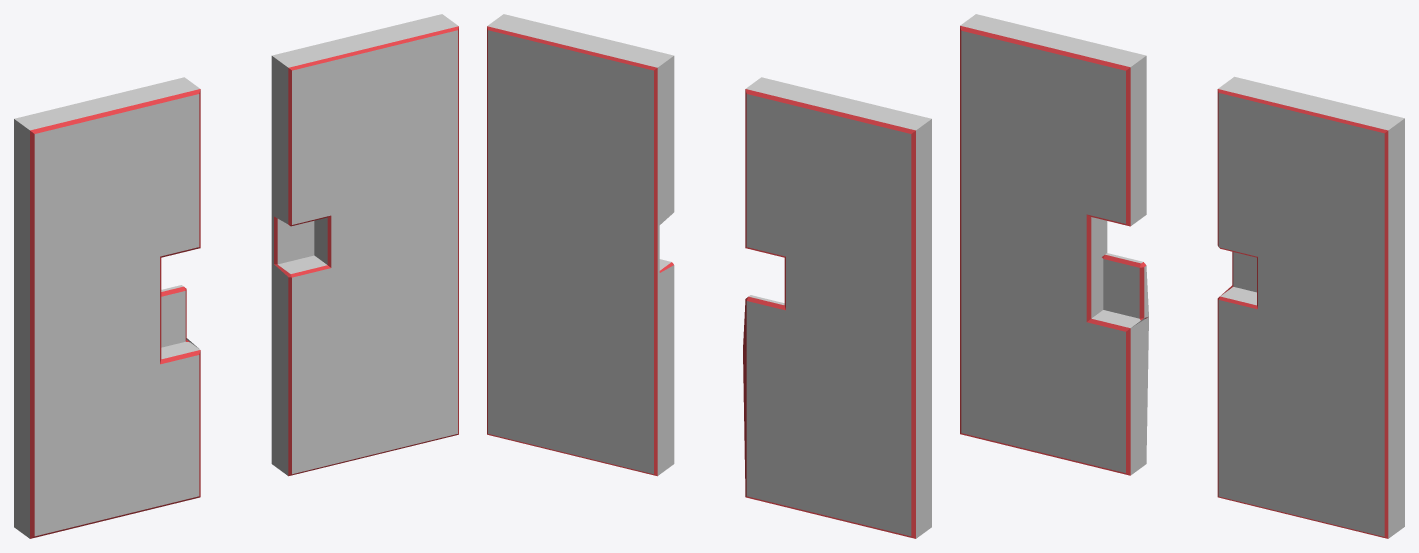
The model's file is WallTwo.fbx.
3 renders of one model, left to right at view 1: azimuth 30°, elevation 25°; view 2: azimuth 150°, elevation 25°; view 3: azimuth 330°, elevation 25°, orthographic.
Parts seen in each view (by area): view 1: Cube; view 2: Cube; view 3: Cube.
Boxes of the visible parts, x1=… form: Cube: x1=14, y1=14, x2=458, y2=538; Cube: x1=487, y1=14, x2=931, y2=538; Cube: x1=960, y1=14, x2=1404, y2=538.
Size of the model in its own units: 49.85 by 45.41 by 3.9.
